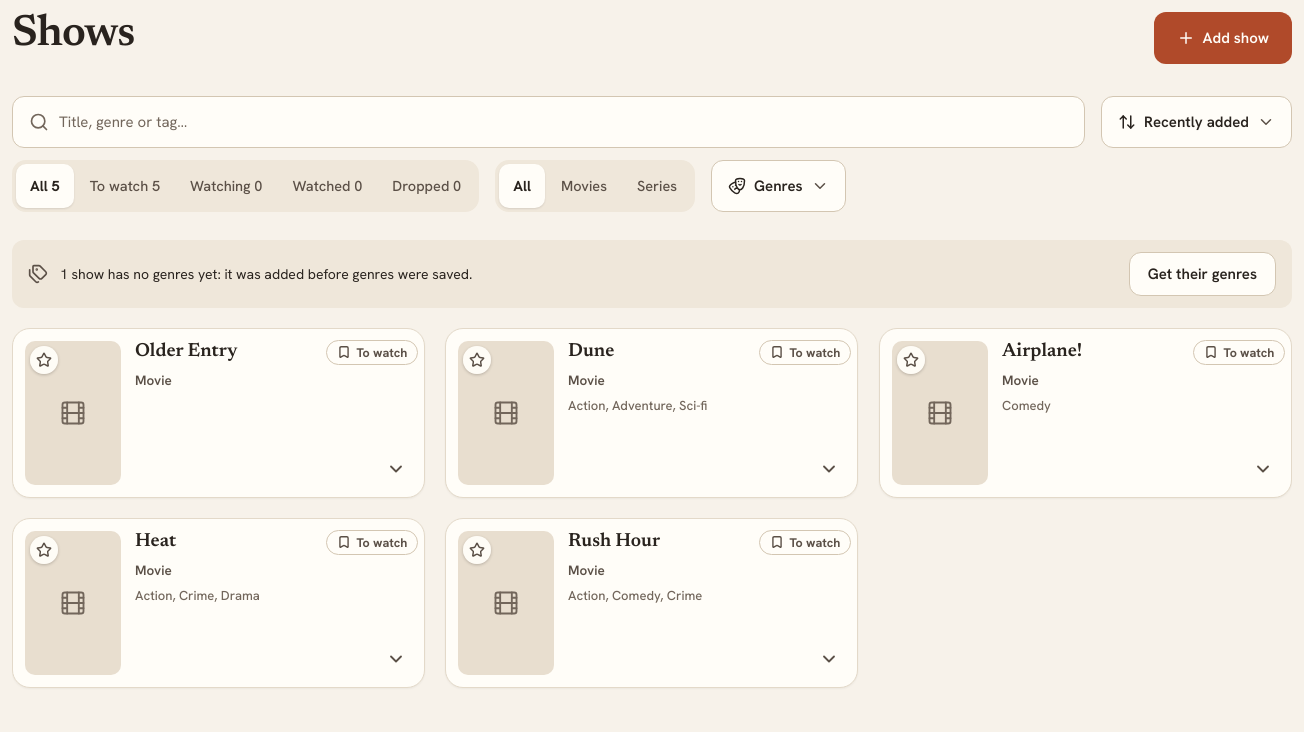
Scenario: genres › says why when the lookups stop, and keeps offering the rest
What coordinates should you click on to do the following:
click the button "Get their genres"
I would click on:
 (1202, 274)
Its box is [1129, 252, 1276, 296].
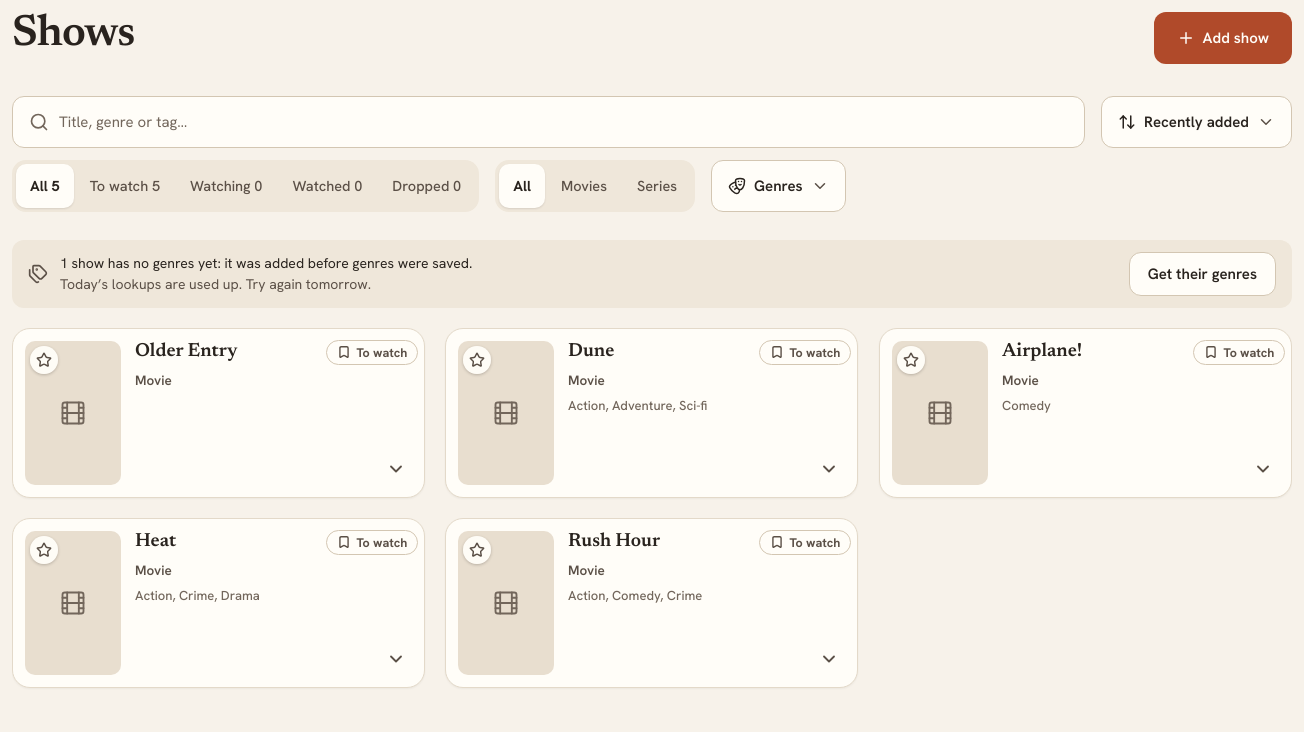
Expected: the text "Today’s lookups are used up. Try again tomorrow." is shown, [60, 275, 371, 293]
